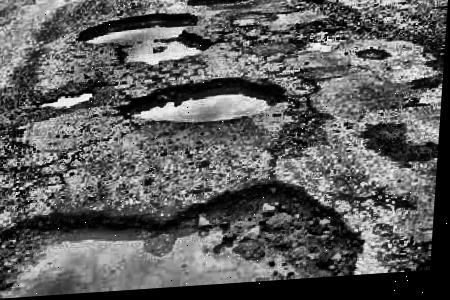pothole: (0, 177, 372, 299), (114, 75, 290, 129), (75, 11, 216, 70), (37, 90, 97, 110), (186, 0, 262, 10)
